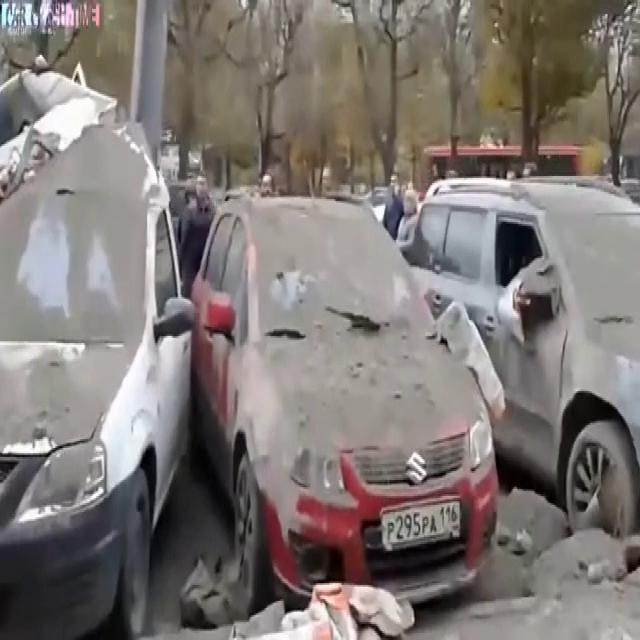accident: (0, 52, 180, 391)
